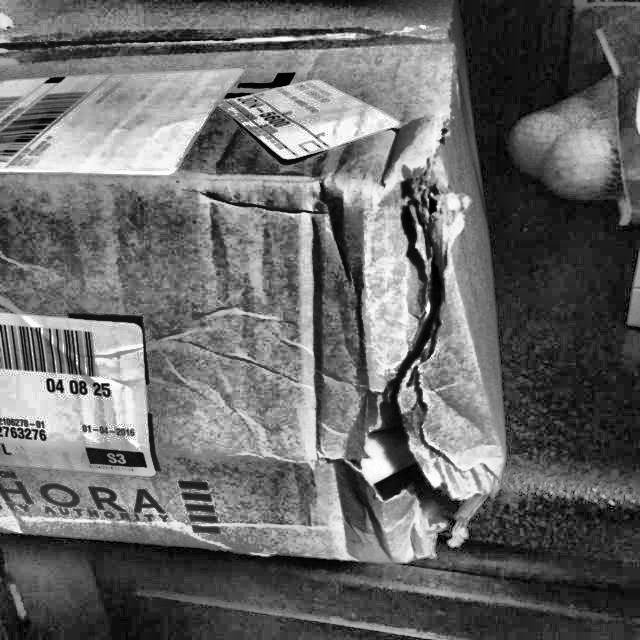box: (0, 0, 526, 577)
hole: (373, 179, 469, 563)
